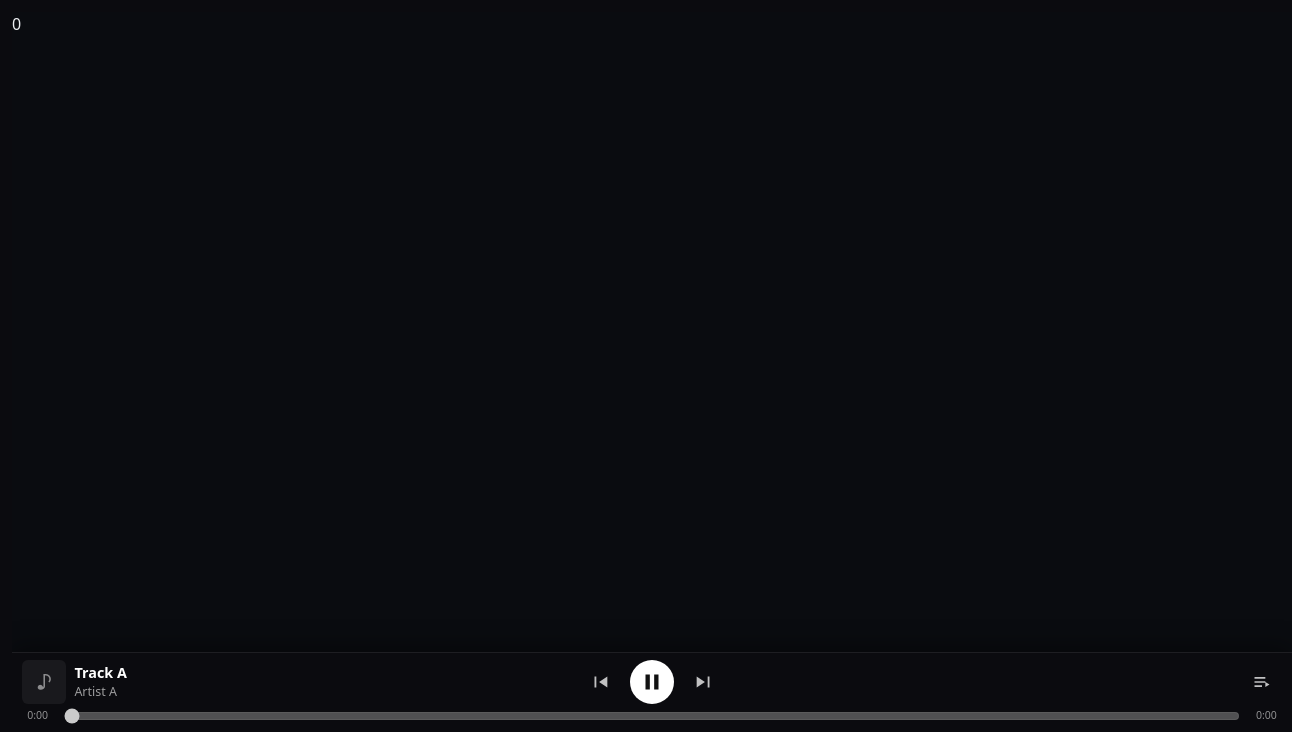
Scenario: NowPlayingBar — compact mobile layout › stays visible when a track is loaded but PAUSED (not gated on isPlaying)
The width and height of the screenshot is (1292, 732).
Note: Pause it — the mini-player must NOT disappear when playback stops.
What coordinates should you click on to do the following:
click the button named "Pausar"
I would click on:
 (652, 682)
Its box is [630,660,674,704].
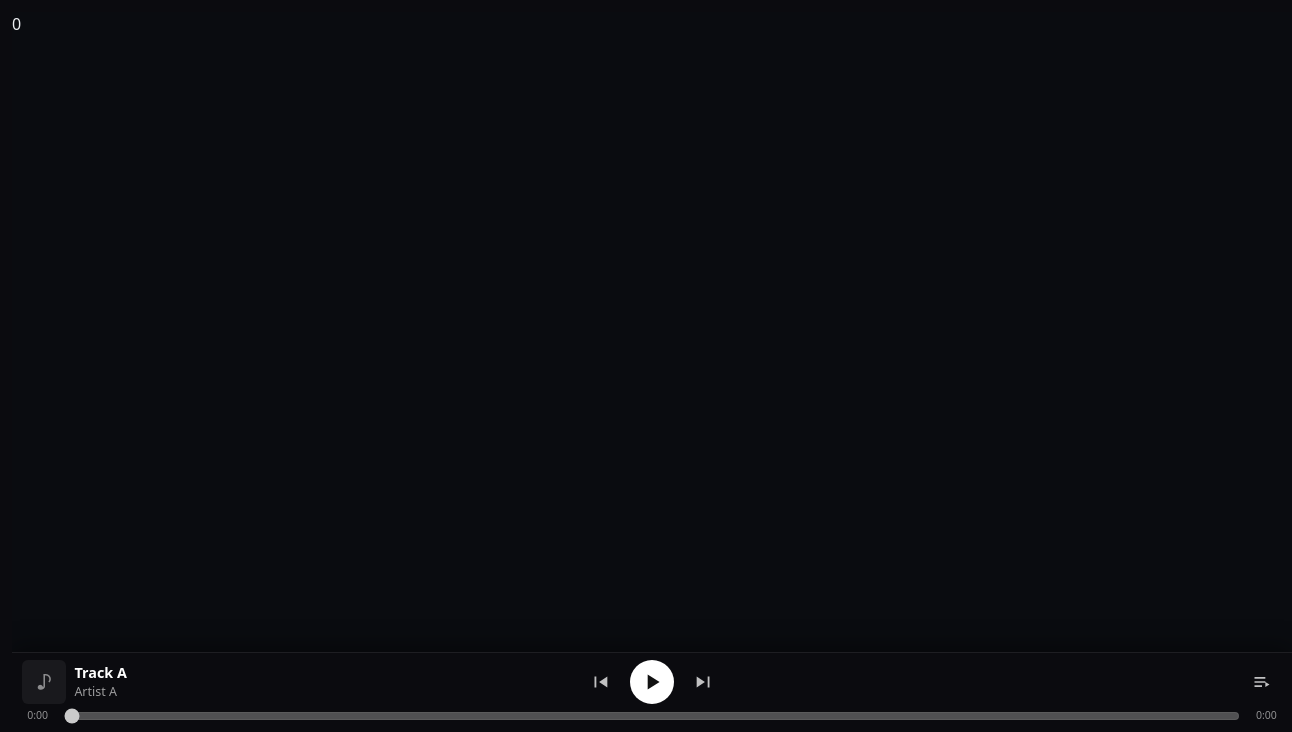
Expected: the button with aria-label "Abrir reproductor: Track A" is shown, [20,660,576,704]
Expected: the button named "Reproducir" is shown, [630,660,674,704]
